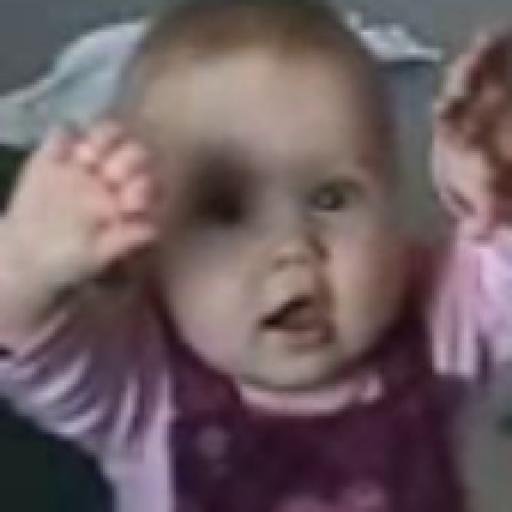Autism: (105, 22, 458, 443)
